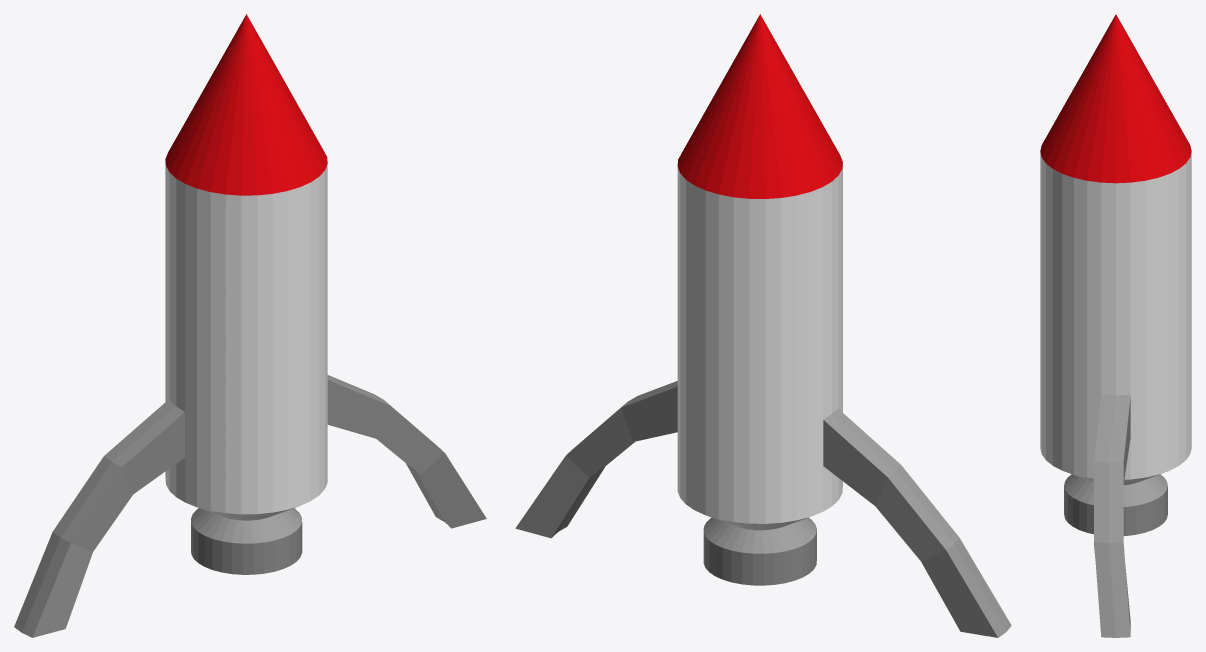
File: rocket.fbx
3 views of the same model, side by side, from view 1: azimuth 30°, elevation 25°; view 2: azimuth 150°, elevation 25°; view 3: azimuth 270°, elevation 25° (orthographic). The views are drawn at different scales.
Parts seen in each view (by area): view 1: Cone; view 2: Cone; view 3: Cone.
Boxes of the visible parts, box(x1,y1,x2,y2) form: Cone: box(14, 14, 486, 637); Cone: box(515, 14, 1011, 637); Cone: box(1040, 14, 1191, 637).
Size of the model in its own units: 663 by 756 by 200.
